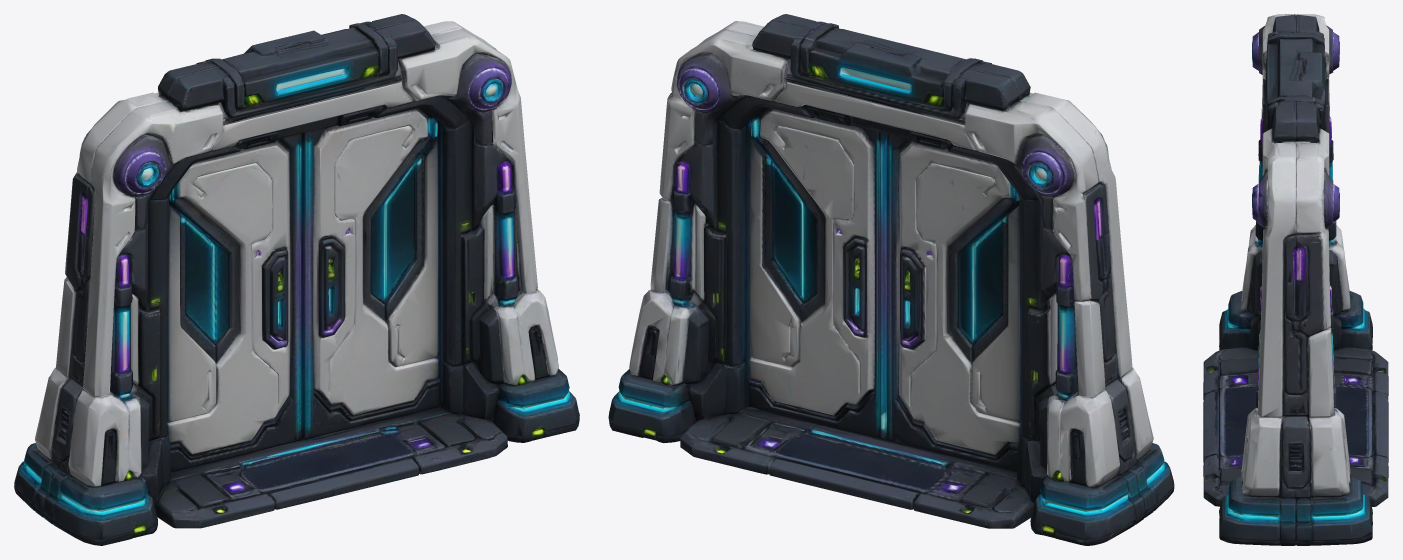
Rendered from model-17-lab-door.glb.
3 views of the same model, side by side, from view 1: azimuth 30°, elevation 25°; view 2: azimuth 150°, elevation 25°; view 3: azimuth 270°, elevation 25° (orthographic). The views are drawn at different scales.
Visible parts, largest first — view 1: node_0; view 2: node_0; view 3: node_0.
Boxes of the visible parts, left/top/right/bottom form: node_0: left=14, top=14, right=579, bottom=545; node_0: left=608, top=14, right=1174, bottom=545; node_0: left=1203, top=14, right=1388, bottom=545.
Size of the model in its own units: 0.9495 by 0.7311 by 0.3318.
Materials: 1 (1 with a texture image).
